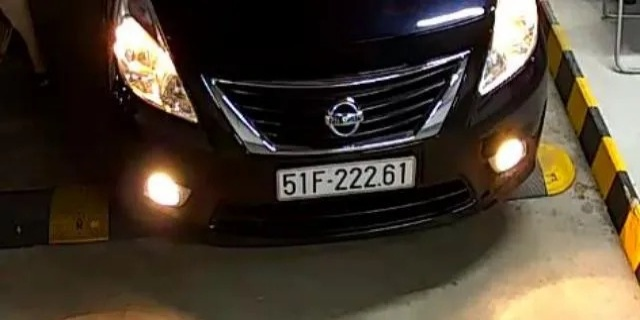bien_so: (278, 161, 412, 197)
